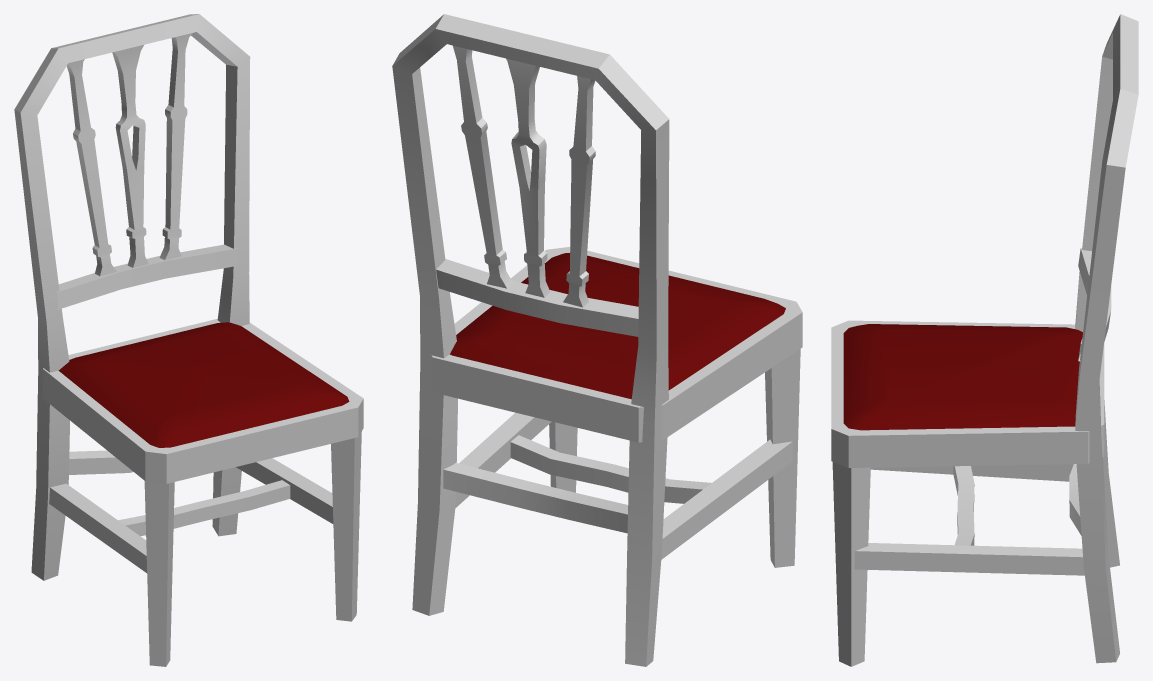
Rendered from obj_SecondChair.fbx.
The picture shows the model from 3 angles, left to right: view 1: azimuth 30°, elevation 25°; view 2: azimuth 150°, elevation 25°; view 3: azimuth 270°, elevation 25°; orthographic projection. The views are drawn at different scales.
Visible parts, largest first — view 1: Cube.006, Cube.005; view 2: Cube.006, Cube.005; view 3: Cube.006, Cube.005.
Boxes of the visible parts, x1,y1,x2,y2 form: Cube.006: (14,14,363,666); Cube.005: (58,322,349,447); Cube.006: (392,14,802,666); Cube.005: (450,253,785,399); Cube.006: (831,14,1138,666); Cube.005: (843,324,1082,430).
Bounding box in the file's own units: 0.4035 × 0.8699 × 0.4318.
